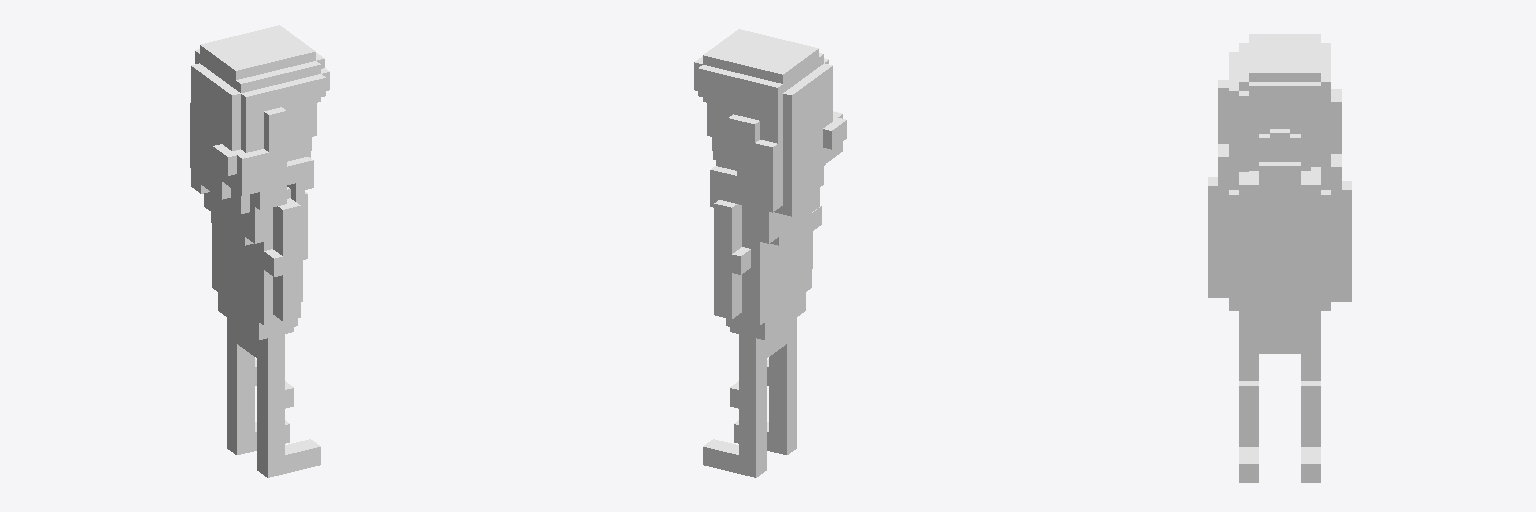
File: SBlack_HBlack.obj
3 views of the same model, side by side, from view 1: azimuth 30°, elevation 25°; view 2: azimuth 150°, elevation 25°; view 3: azimuth 270°, elevation 25° (orthographic).
Visible parts, largest first — view 1: object 1; view 2: object 1; view 3: object 1.
Part boxes in pixels (left/top/right/bottom): object 1: left=190, top=25, right=329, bottom=477; object 1: left=694, top=29, right=846, bottom=477; object 1: left=1208, top=34, right=1351, bottom=482.
Size of the model in its own units: 1.2 by 4.4 by 1.4.